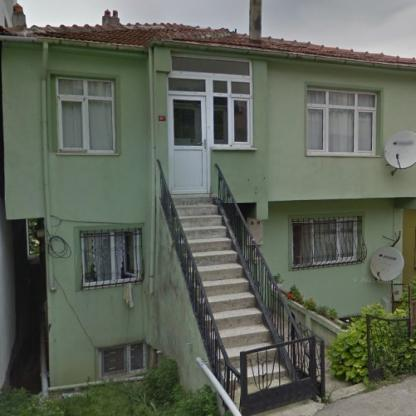door: (169, 96, 207, 192)
window: (168, 57, 249, 144), (308, 90, 375, 153), (59, 79, 112, 150), (294, 220, 356, 264), (84, 231, 136, 283), (101, 344, 145, 376)
